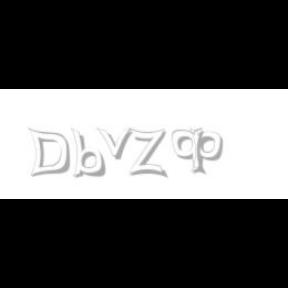D: (28, 128, 70, 178)
Z: (128, 128, 165, 178)
b: (71, 128, 109, 178)
p: (190, 128, 226, 174)
q: (171, 128, 207, 176)
v: (96, 128, 136, 160)
